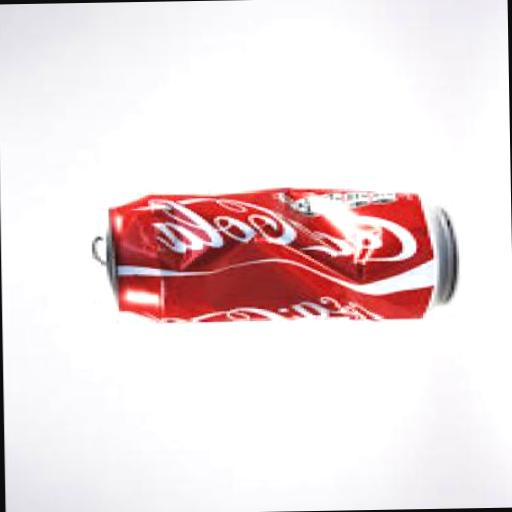metal: (102, 184, 456, 322)
